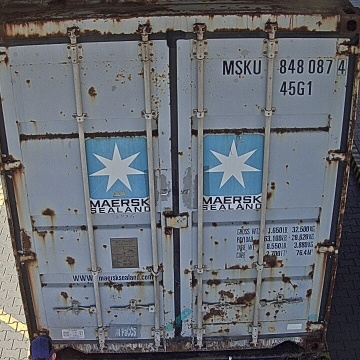serial_id: (223, 58, 346, 74)
